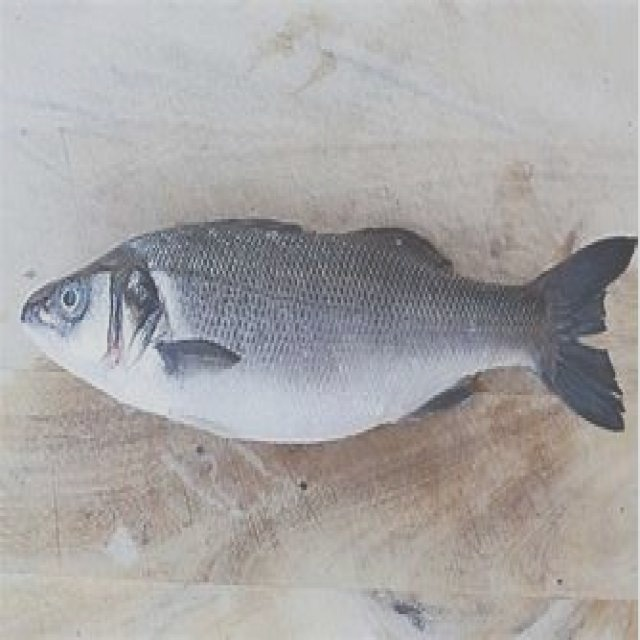Healthy Fish: (4, 163, 640, 471)
